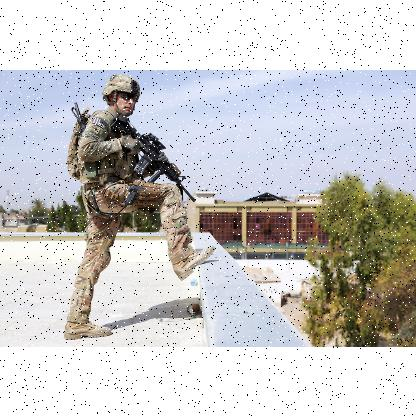gun: (110, 110, 194, 200)
